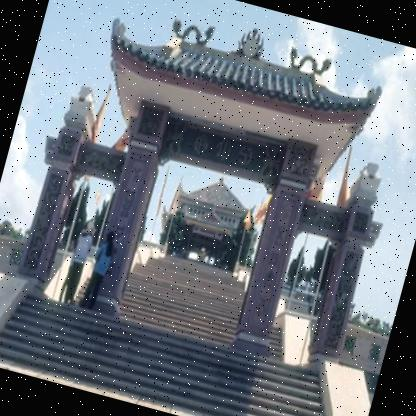person: (78, 226, 122, 314), (56, 218, 99, 308)
stair: (6, 284, 336, 416), (128, 234, 248, 342)
